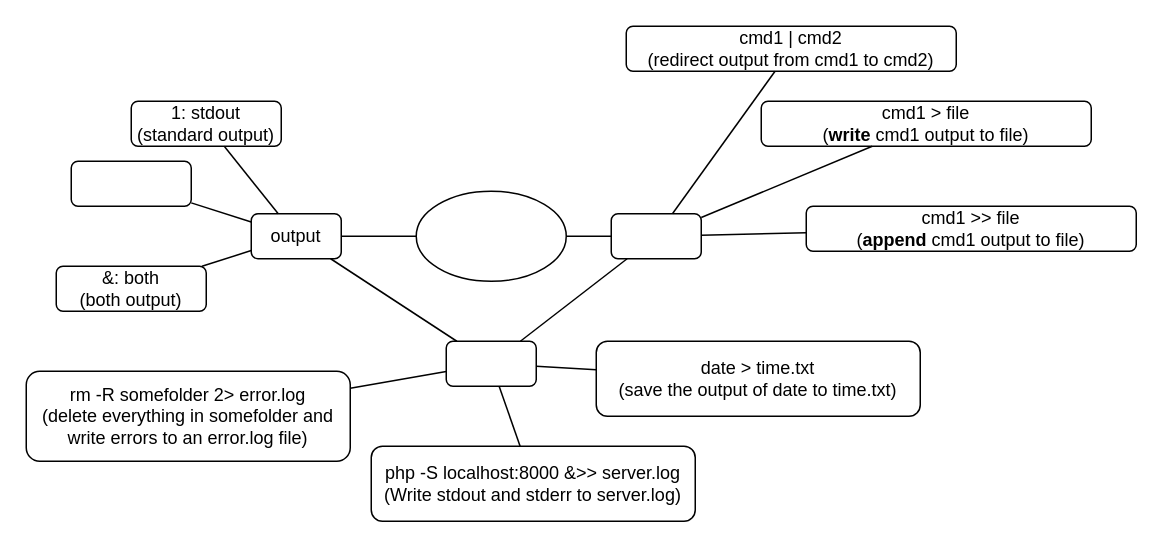
The diagram is 1163 pixels wide and 548 high, and some of its shapes have lost their labels. The shapes that lost their labels are listed below. From the top down, each one's box as (x1, y1, x2, y2) in pixels, then its label:
(70, 160, 191, 206): 2: stderr (error output)
(415, 190, 566, 281): Redirections
(610, 212, 701, 259): pipeline
(445, 340, 536, 386): examples
